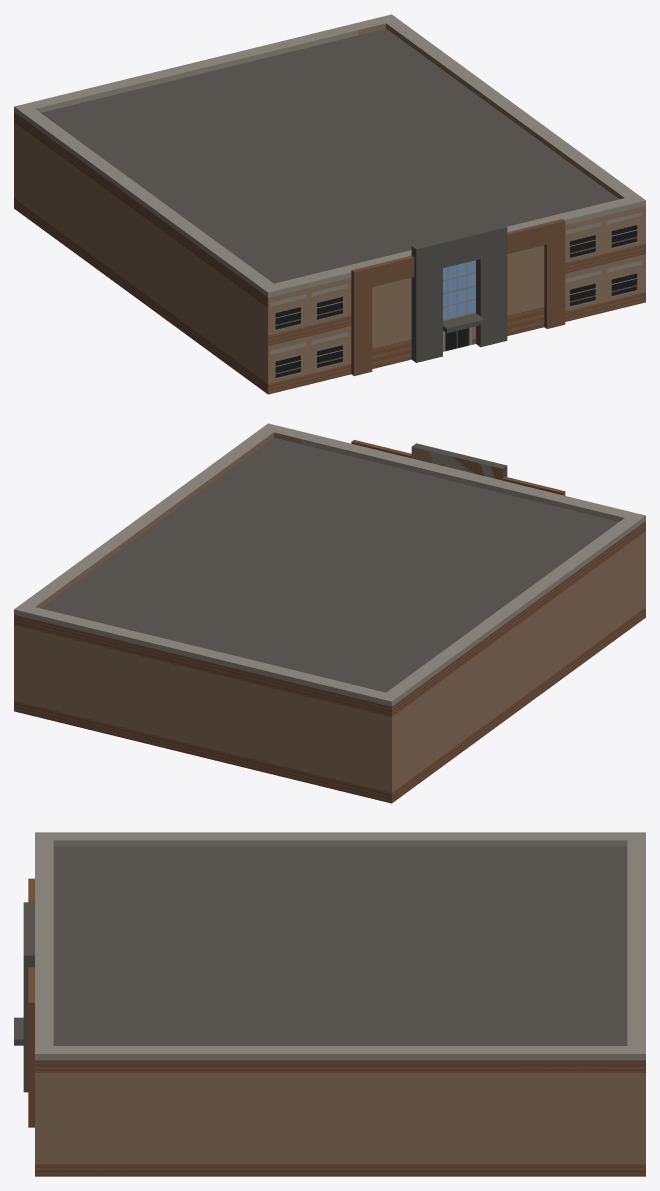
Rendered from qcu_bldg6.glb.
3 renders of one model, top to bottom at view 1: azimuth 30°, elevation 25°; view 2: azimuth 150°, elevation 25°; view 3: azimuth 270°, elevation 25°, orthographic. The views are drawn at different scales.
Visible parts, largest first — view 1: TechVoc; view 2: TechVoc; view 3: TechVoc.
Part boxes in pixels (bbox=[...]): TechVoc: bbox=[14, 14, 645, 394]; TechVoc: bbox=[14, 423, 645, 803]; TechVoc: bbox=[14, 832, 645, 1176].
Bounding box in the file's own units: 3.27 × 0.94 × 3.94.
1 material, 1 textured.
